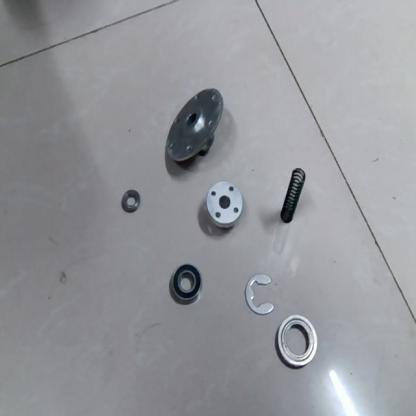FOD: (163, 84, 227, 168), (277, 314, 318, 366), (276, 162, 309, 226), (204, 181, 246, 231), (242, 269, 277, 315), (169, 260, 203, 304), (118, 186, 141, 217)
